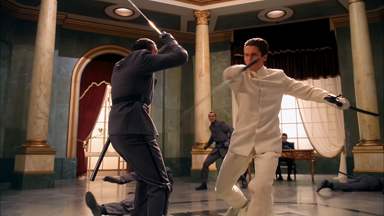bladed_weapon: (180, 53, 265, 119), (124, 0, 169, 42), (322, 92, 383, 121), (87, 133, 110, 184)
